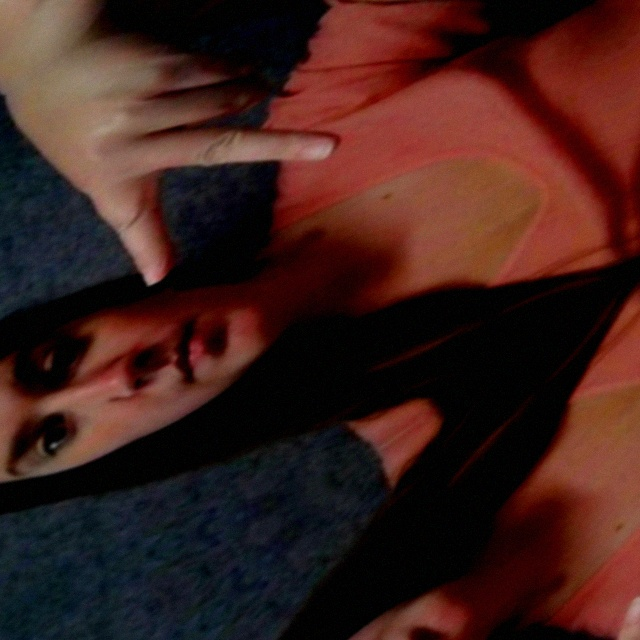Scissors: (0, 0, 344, 179)
